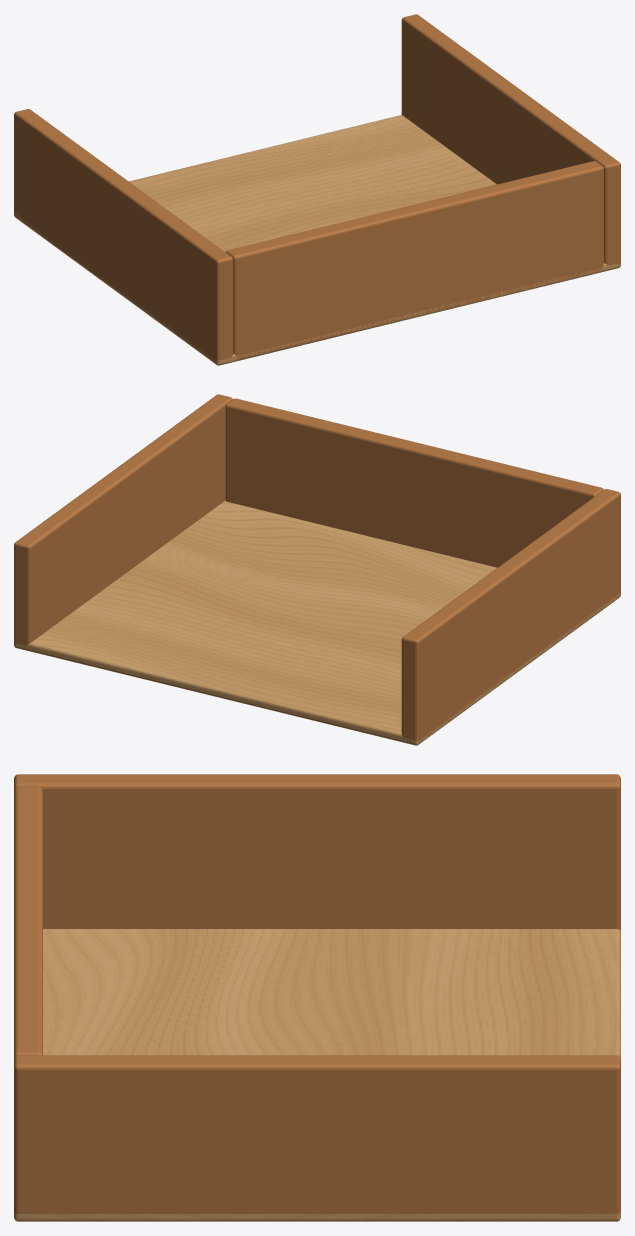
File: tray.glb
3 views of the same model, one above another, from view 1: azimuth 30°, elevation 25°; view 2: azimuth 150°, elevation 25°; view 3: azimuth 270°, elevation 25° (orthographic). The views are drawn at different scales.
Visible parts, largest first — view 1: tray; view 2: tray; view 3: tray.
Boxes of the visible parts, left/top/right/bottom form: tray: left=14, top=14, right=620, bottom=365; tray: left=14, top=394, right=620, bottom=745; tray: left=14, top=774, right=620, bottom=1221.
Bounding box in the file's own units: 0.048 × 0.012 × 0.042.
2 materials, 1 textured.
